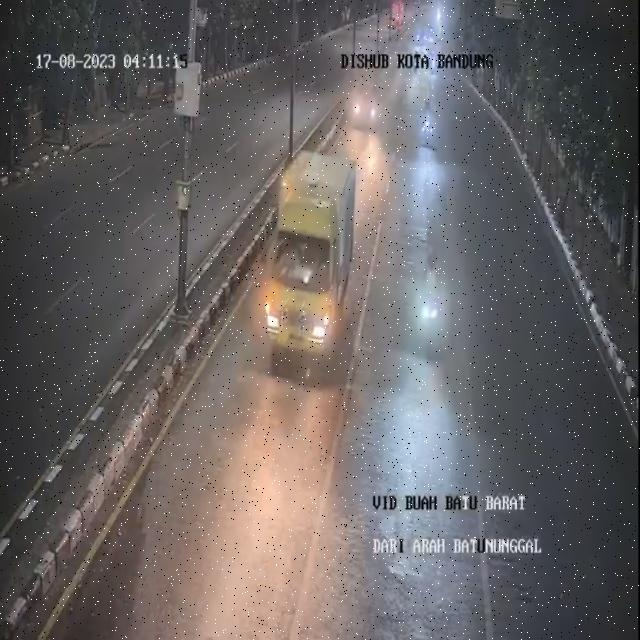cars: (353, 81, 385, 129)
motorcycle: (418, 246, 443, 364), (421, 97, 434, 150)
truck: (263, 151, 356, 381)
